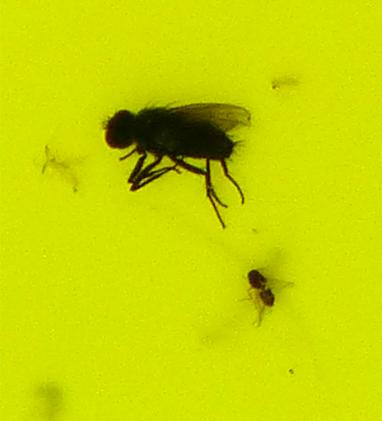Brachycera: (100, 100, 252, 228), (244, 265, 282, 321)
